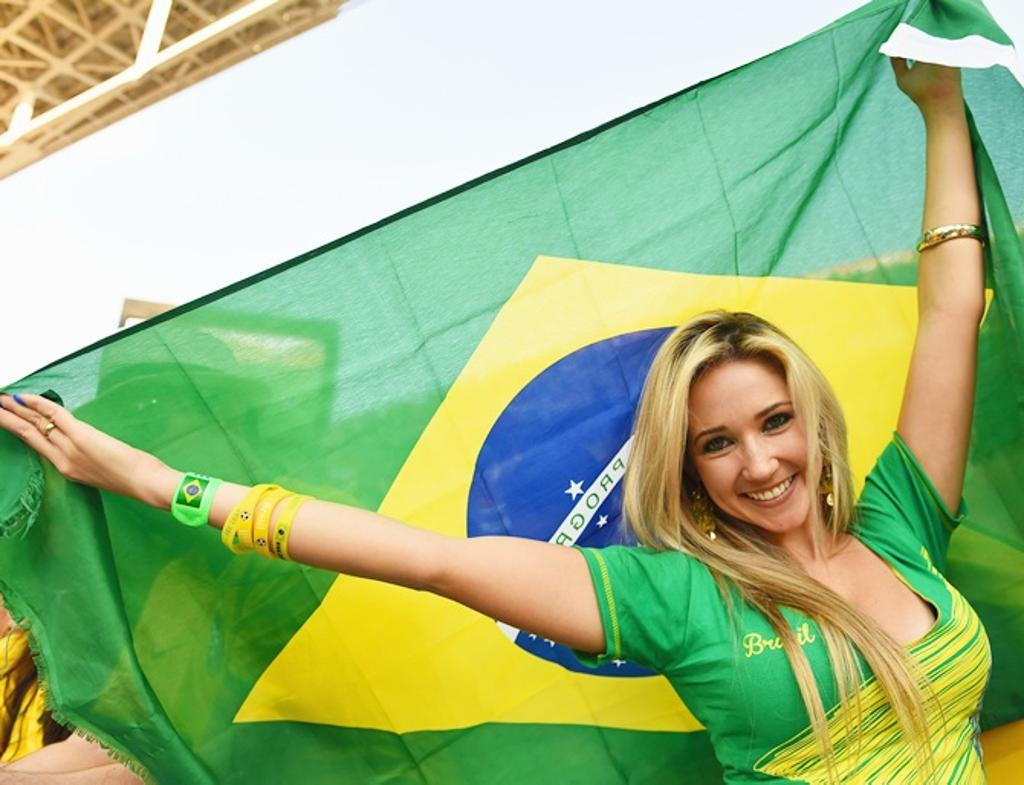face: (700, 366, 822, 530)
